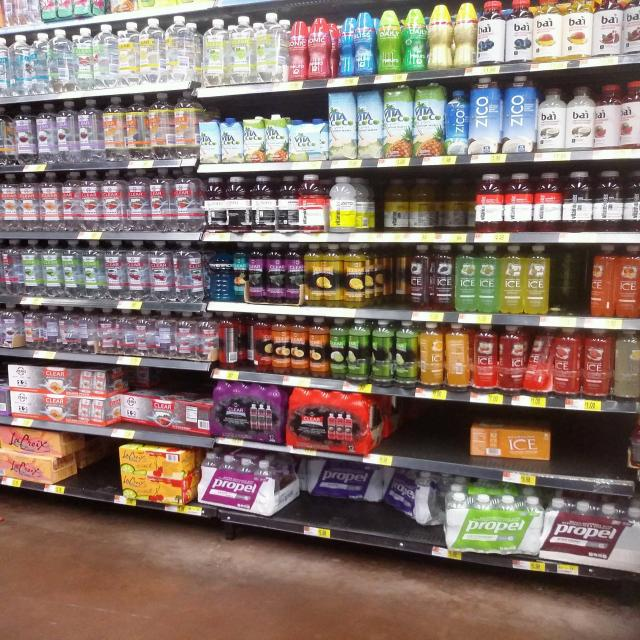void: (376, 401, 464, 451), (564, 414, 624, 476)
